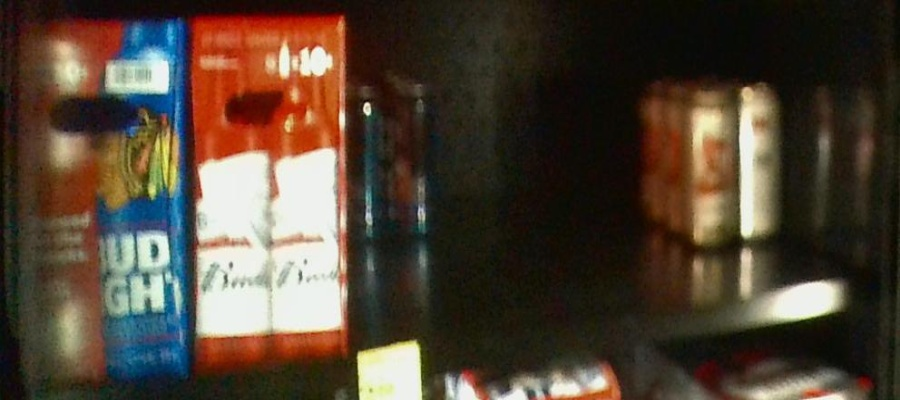bottle: (9, 7, 193, 379), (193, 10, 346, 366), (685, 86, 780, 239), (346, 86, 434, 237)
